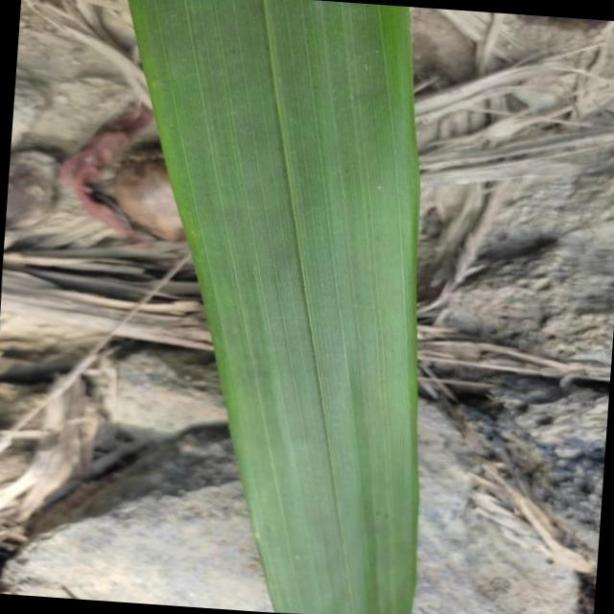Healthy: (127, 1, 433, 614)
